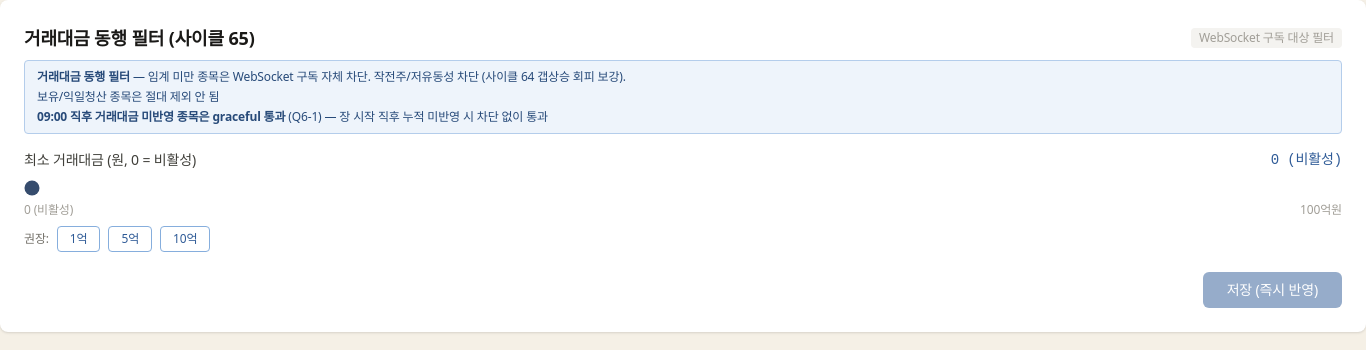
TradeAmountFilterCard (사이클 65 거래대금 필터) › F-FE-3: 권장값 마커 (1억/5억/10억) 버튼 클릭 시 슬라이더 값 갱신
// 5억 권장 버튼 (Q1 자문 권장 중간값)
Click the button "5억". click: point(130, 239)
box: left=108, top=226, right=152, bottom=252
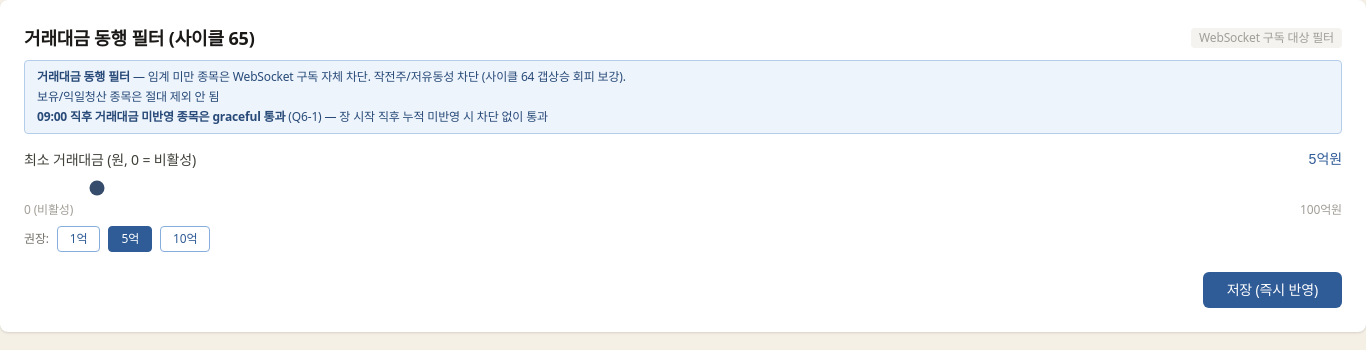
Check: the slider with test id "trade-amount-filter-min-slider" holds "500000000", box left=24, top=184, right=1342, bottom=192
// 10억 권장 버튼 (Q1 자문 권장 최대값)
Click the button "10억". click: point(185, 239)
box: left=160, top=226, right=210, bottom=252
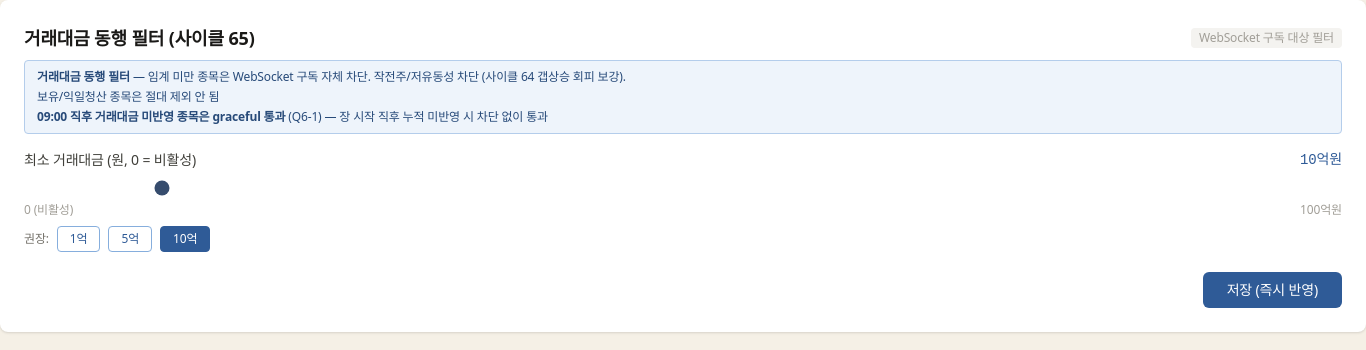
Check: the slider with test id "trade-amount-filter-min-slider" holds "1000000000", box left=24, top=184, right=1342, bottom=192
